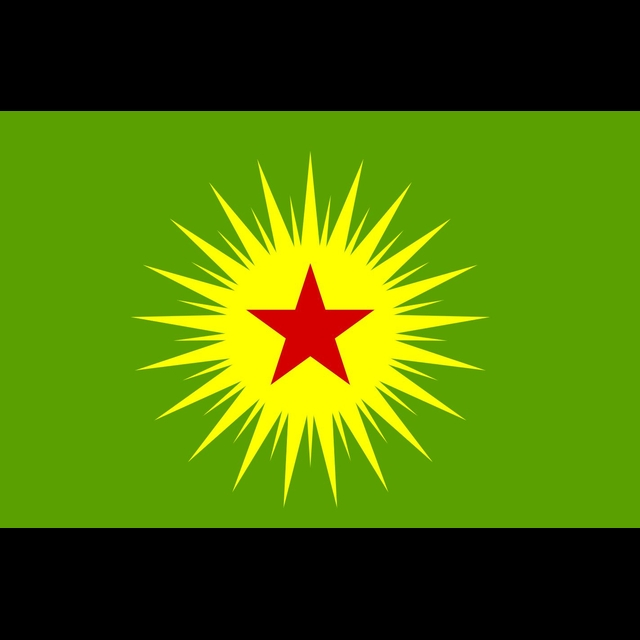KCK: (122, 150, 499, 508)
